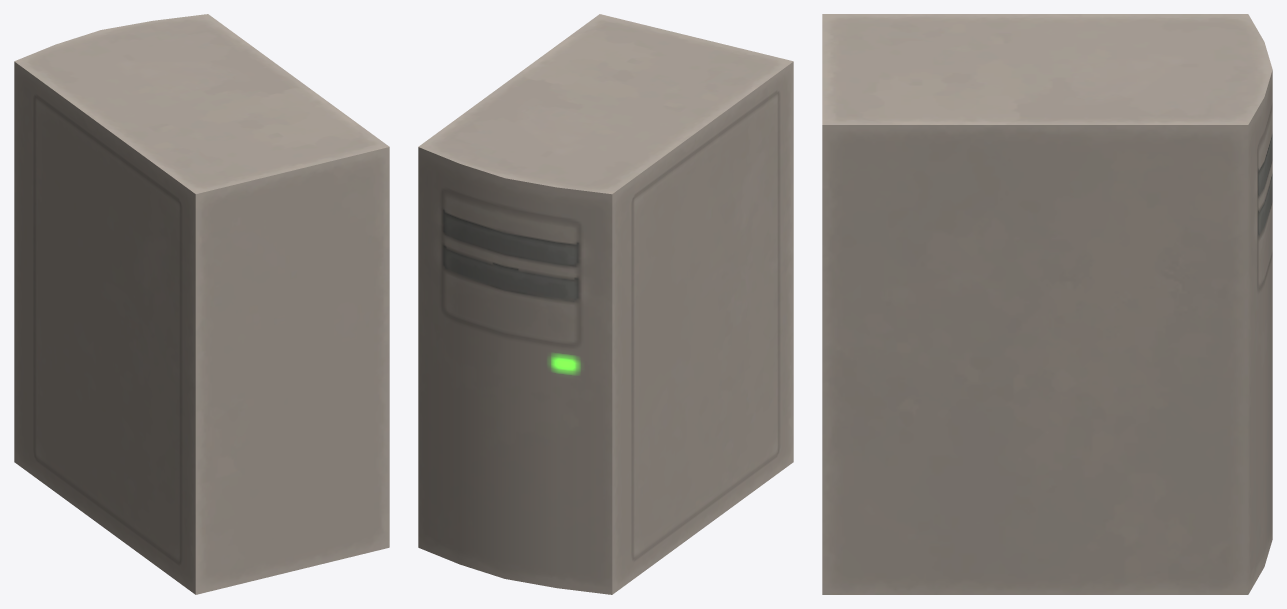
The model's file is Pfb_Computer__19.fbx.
The picture shows the model from 3 angles, left to right: view 1: azimuth 30°, elevation 25°; view 2: azimuth 150°, elevation 25°; view 3: azimuth 270°, elevation 25°; orthographic projection. The views are drawn at different scales.
Visible parts, largest first — view 1: Mat_Computer_01_01; view 2: Mat_Computer_01_01; view 3: Mat_Computer_01_01.
Boxes of the visible parts, box(x1,y1,x2,y2) form: Mat_Computer_01_01: box(14, 14, 389, 594); Mat_Computer_01_01: box(418, 14, 793, 594); Mat_Computer_01_01: box(822, 14, 1272, 594).
Size of the model in its own units: 0.3264 by 0.6443 by 0.5595.
1 material, 1 textured.
